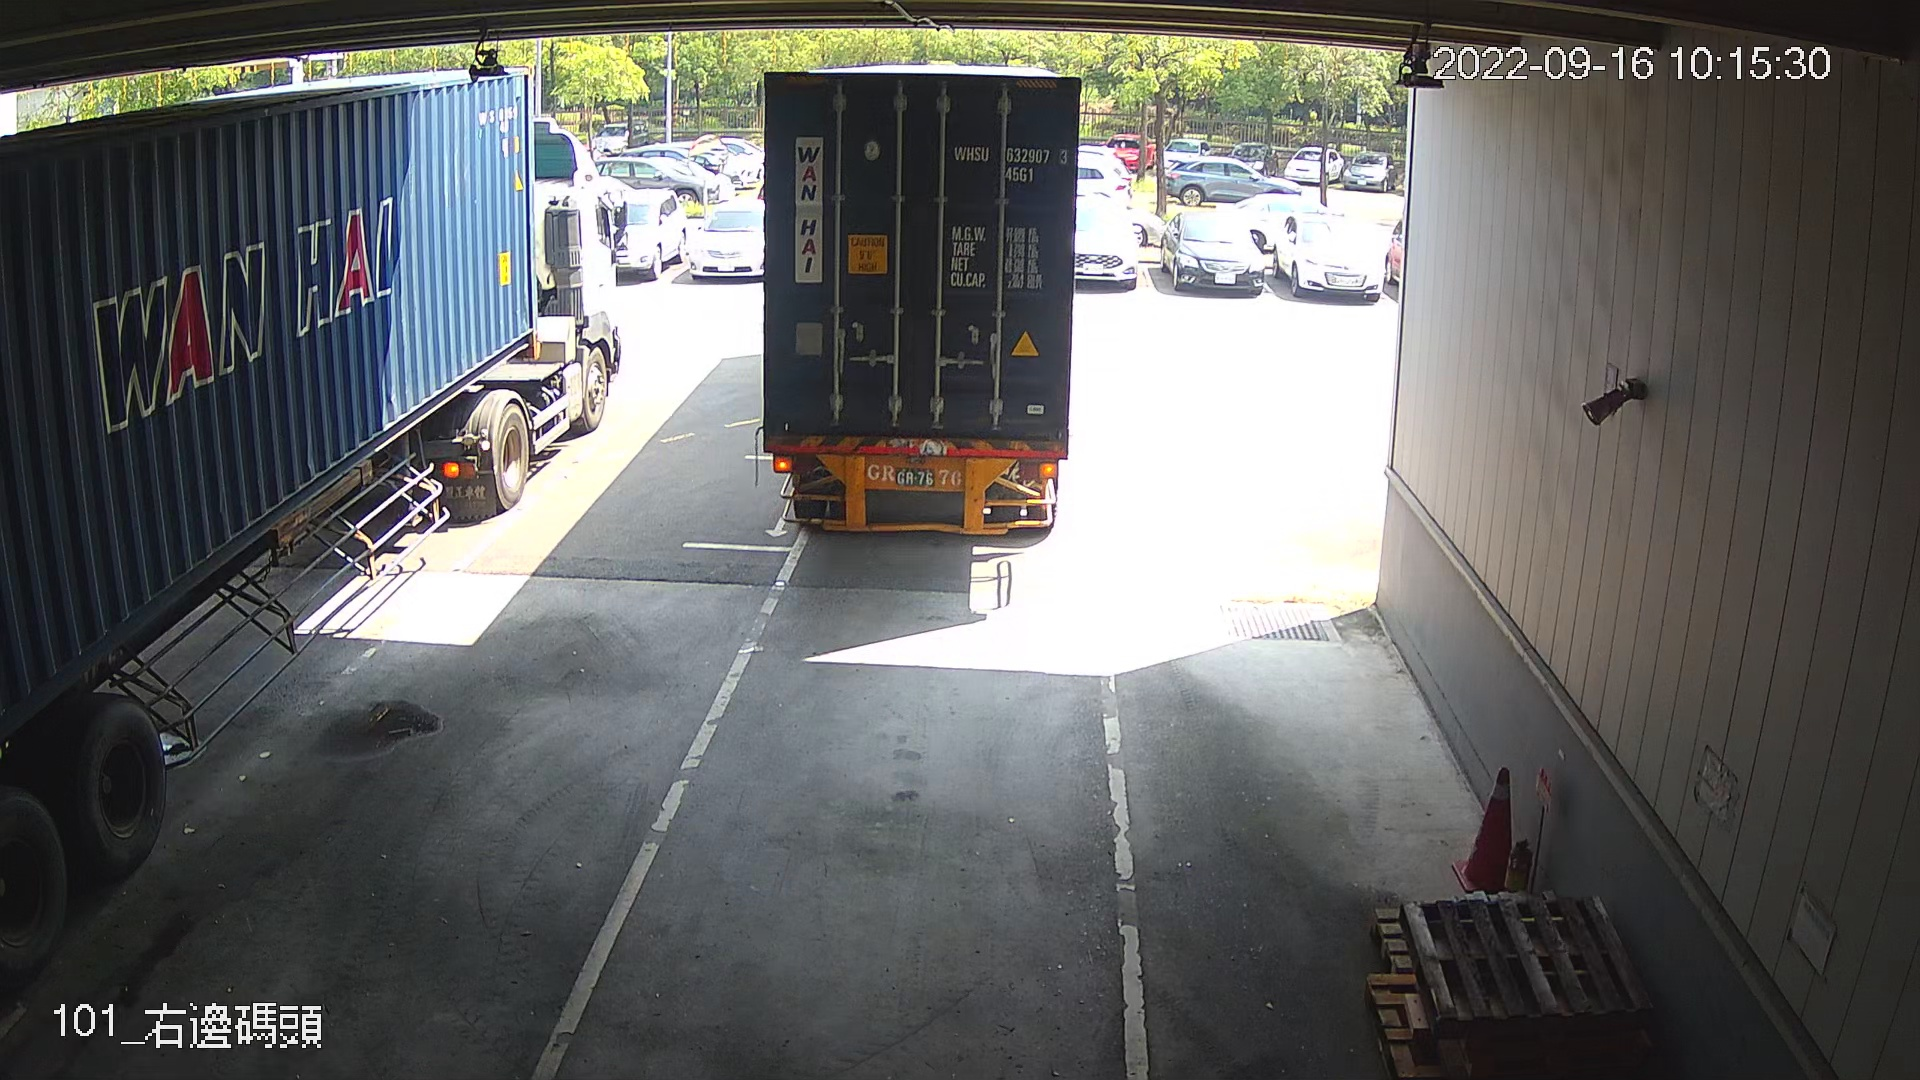container: (947, 138, 1072, 189)
